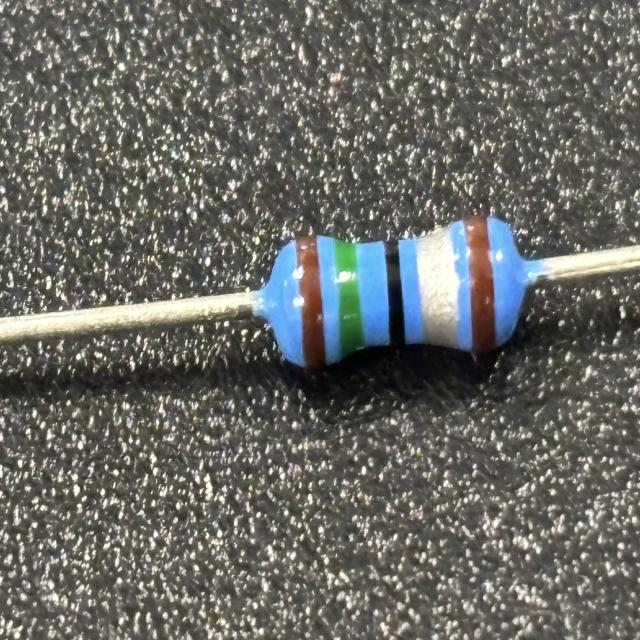resistor: (270, 213, 521, 373)
